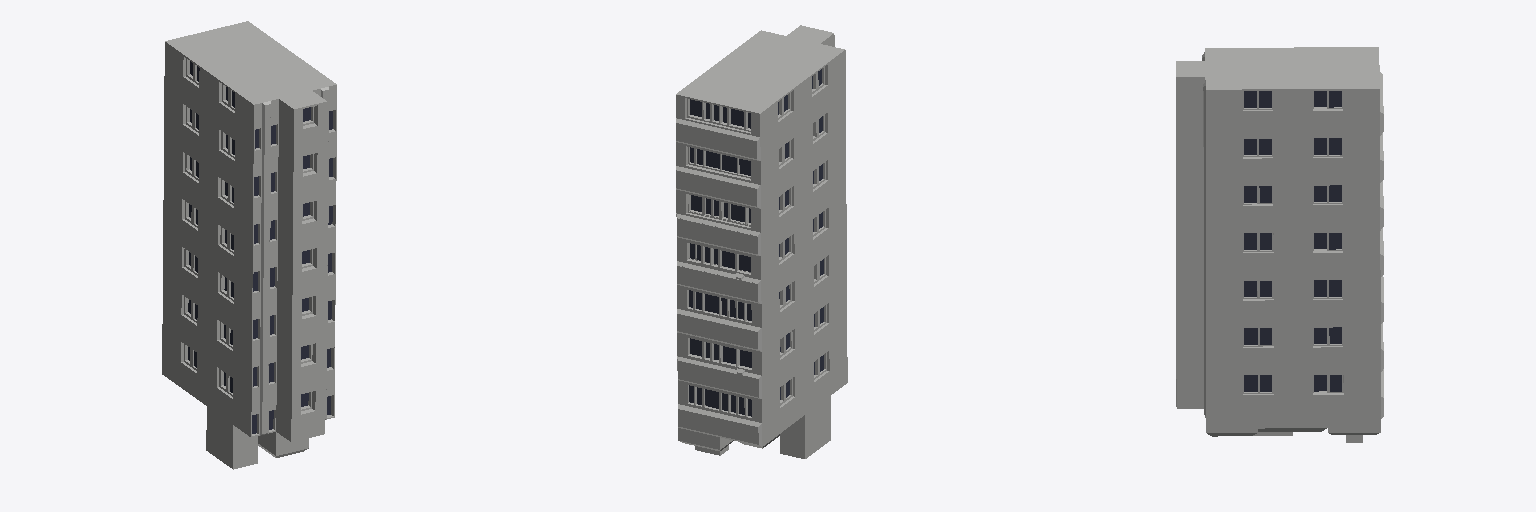
The model's file is predio1.obj.
The picture shows the model from 3 angles: view 1: azimuth 30°, elevation 25°; view 2: azimuth 150°, elevation 25°; view 3: azimuth 270°, elevation 25°; orthographic projection.
Visible parts, largest first — view 1: Cube.1; view 2: Cube.1; view 3: Cube.1.
Boxes of the visible parts, x1,y1,x2,y2 form: Cube.1: [162, 21, 336, 469]; Cube.1: [676, 25, 847, 458]; Cube.1: [1176, 47, 1383, 442].
Bounding box in the file's own units: 75.59 × 309 × 155.